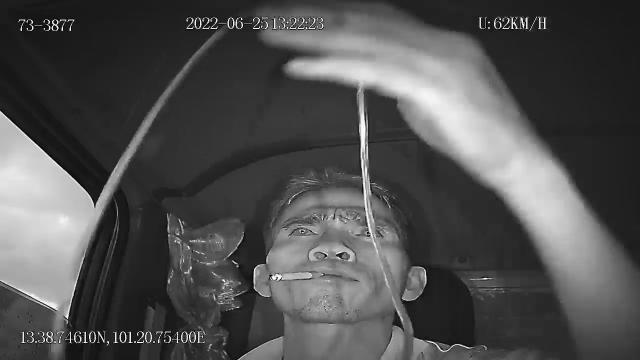SafeDriving: (283, 220, 319, 240)
Smoking: (268, 272, 322, 282)
